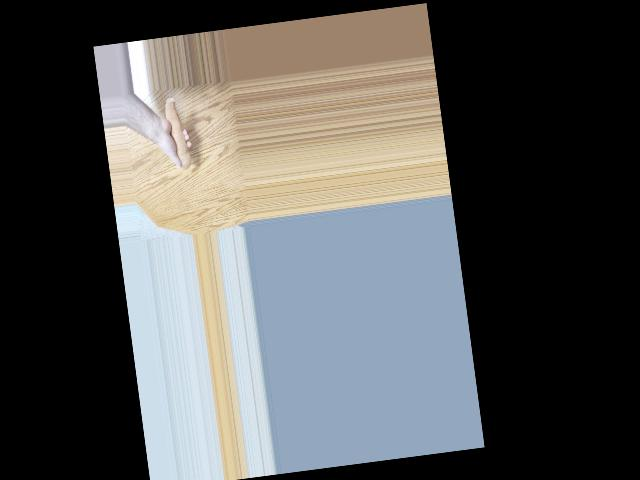sweet_potato: (161, 96, 194, 170)
